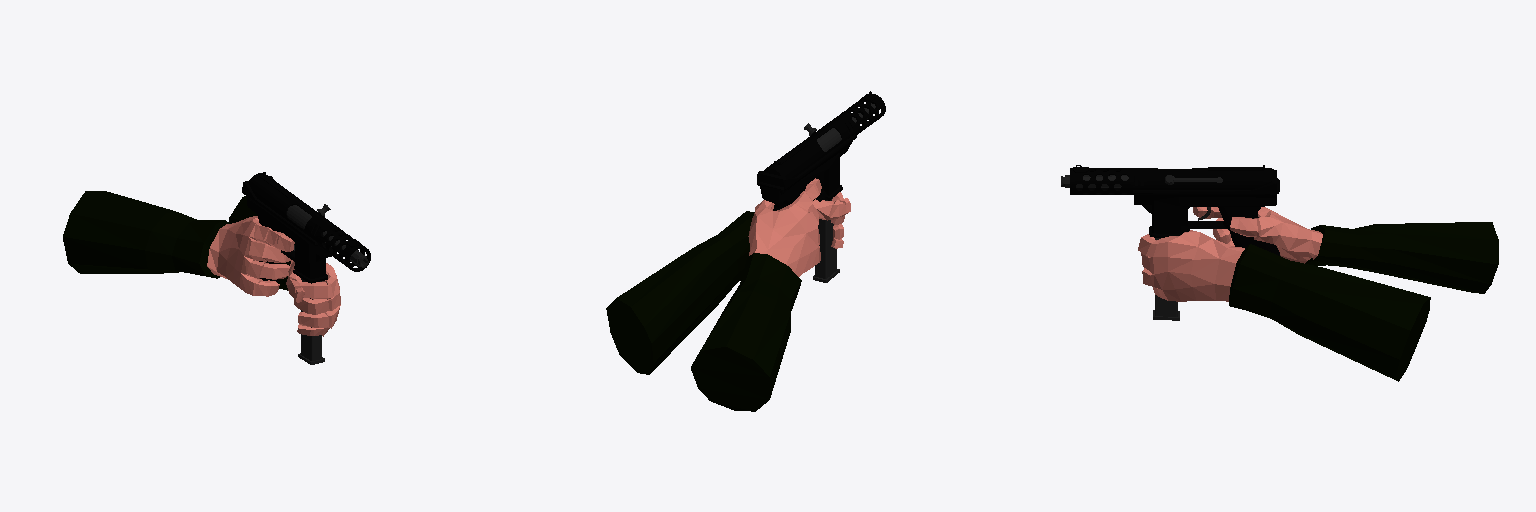
Rendered from tec-9.obj.
The picture shows the model from 3 angles: view 1: azimuth 30°, elevation 25°; view 2: azimuth 150°, elevation 25°; view 3: azimuth 270°, elevation 25°; orthographic projection.
Visible parts, largest first — view 1: armmesh_Mesh, poignee_handle_tec-9.010, chargeur_chargeur_tec-9.030; view 2: armmesh_Mesh, poignee_handle_tec-9.010, chargeur_chargeur_tec-9.030; view 3: armmesh_Mesh, poignee_handle_tec-9.010, chargeur_chargeur_tec-9.030.
Part boxes in pixels (x1,y1,x2,y2): armmesh_Mesh: (63,191,340,336); poignee_handle_tec-9.010: (242,172,370,283); chargeur_chargeur_tec-9.030: (298,278,324,364); armmesh_Mesh: (606,178,850,411); poignee_handle_tec-9.010: (757,91,885,210); chargeur_chargeur_tec-9.030: (813,198,839,282); armmesh_Mesh: (1138,207,1498,381); poignee_handle_tec-9.010: (1061,165,1279,255); chargeur_chargeur_tec-9.030: (1153,238,1179,320).
Size of the model in its own units: 1.35 by 1.2 by 2.63.